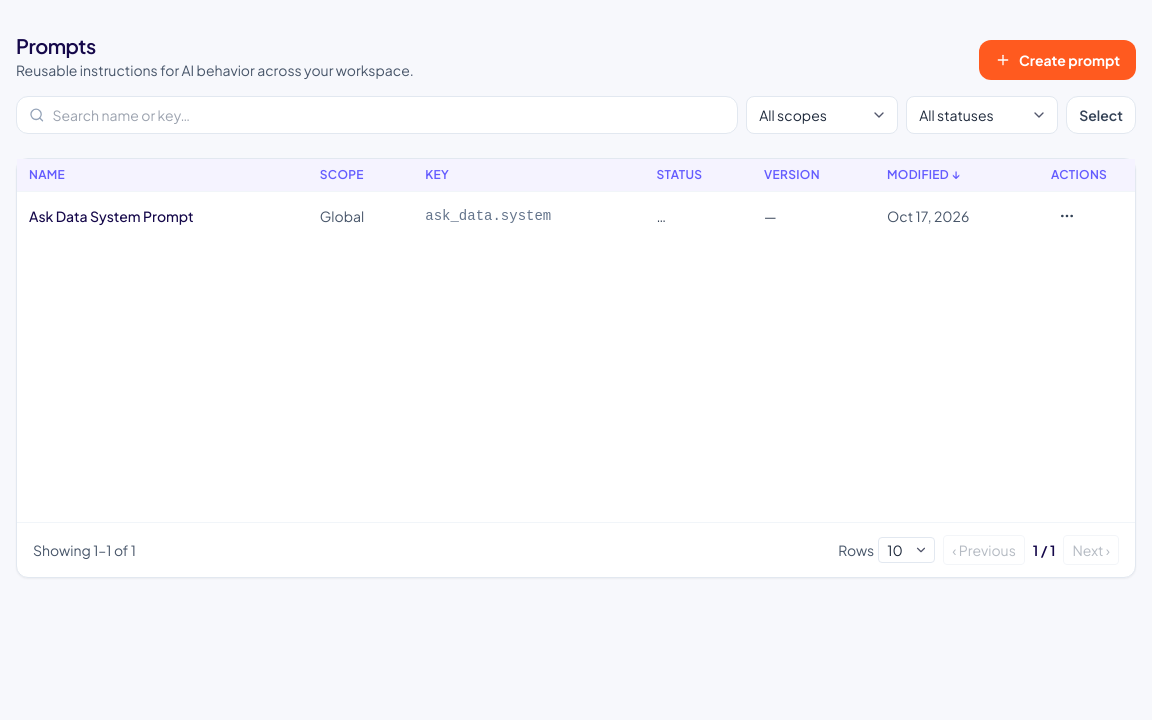
Test: Prompts table-first UX › opens editor drawer on Edit
Click the button "Ask Data System Prompt".
click(111, 216)  # box [29,206,194,226]
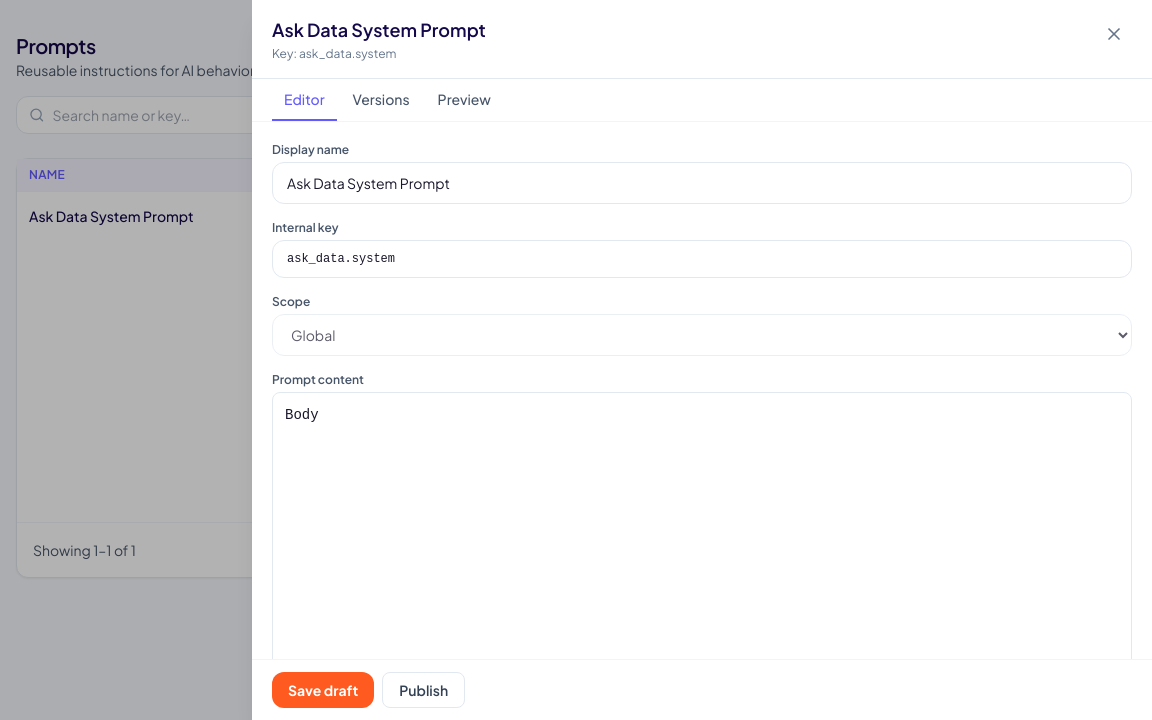
Now the tab "Editor" is shown, box [272,79,337,121]
Now the text box showing "Body" is shown, box [272,392,1132,659]
